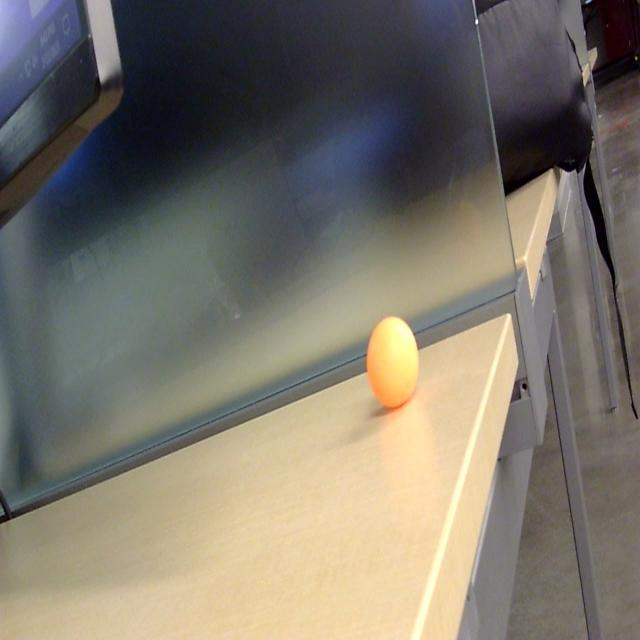ball: (366, 310, 420, 411)
